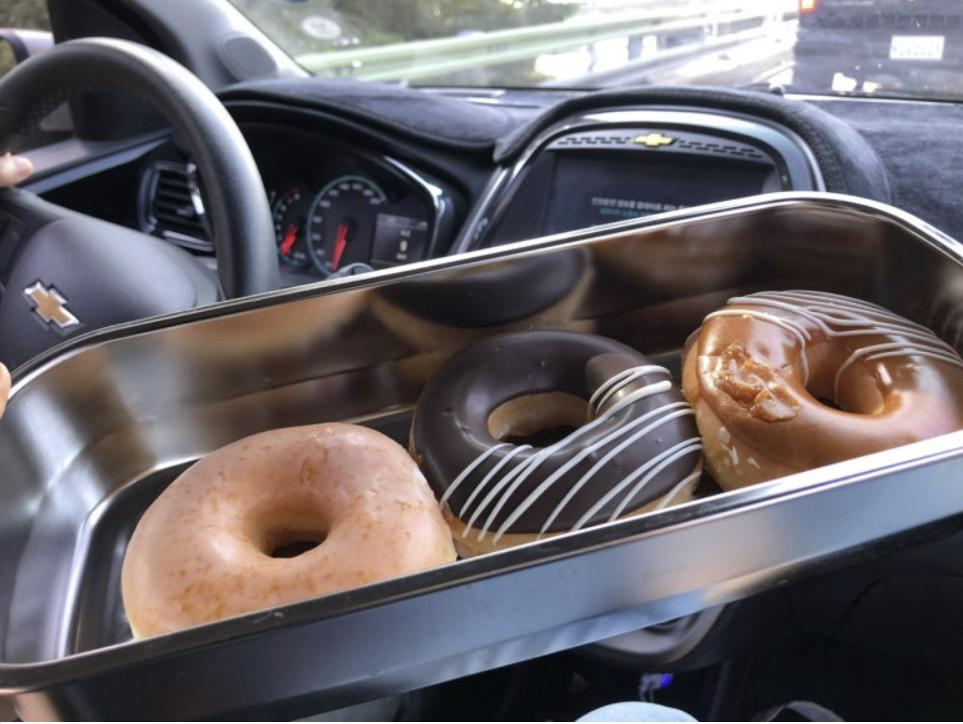Lunch Box: (0, 194, 962, 720)
